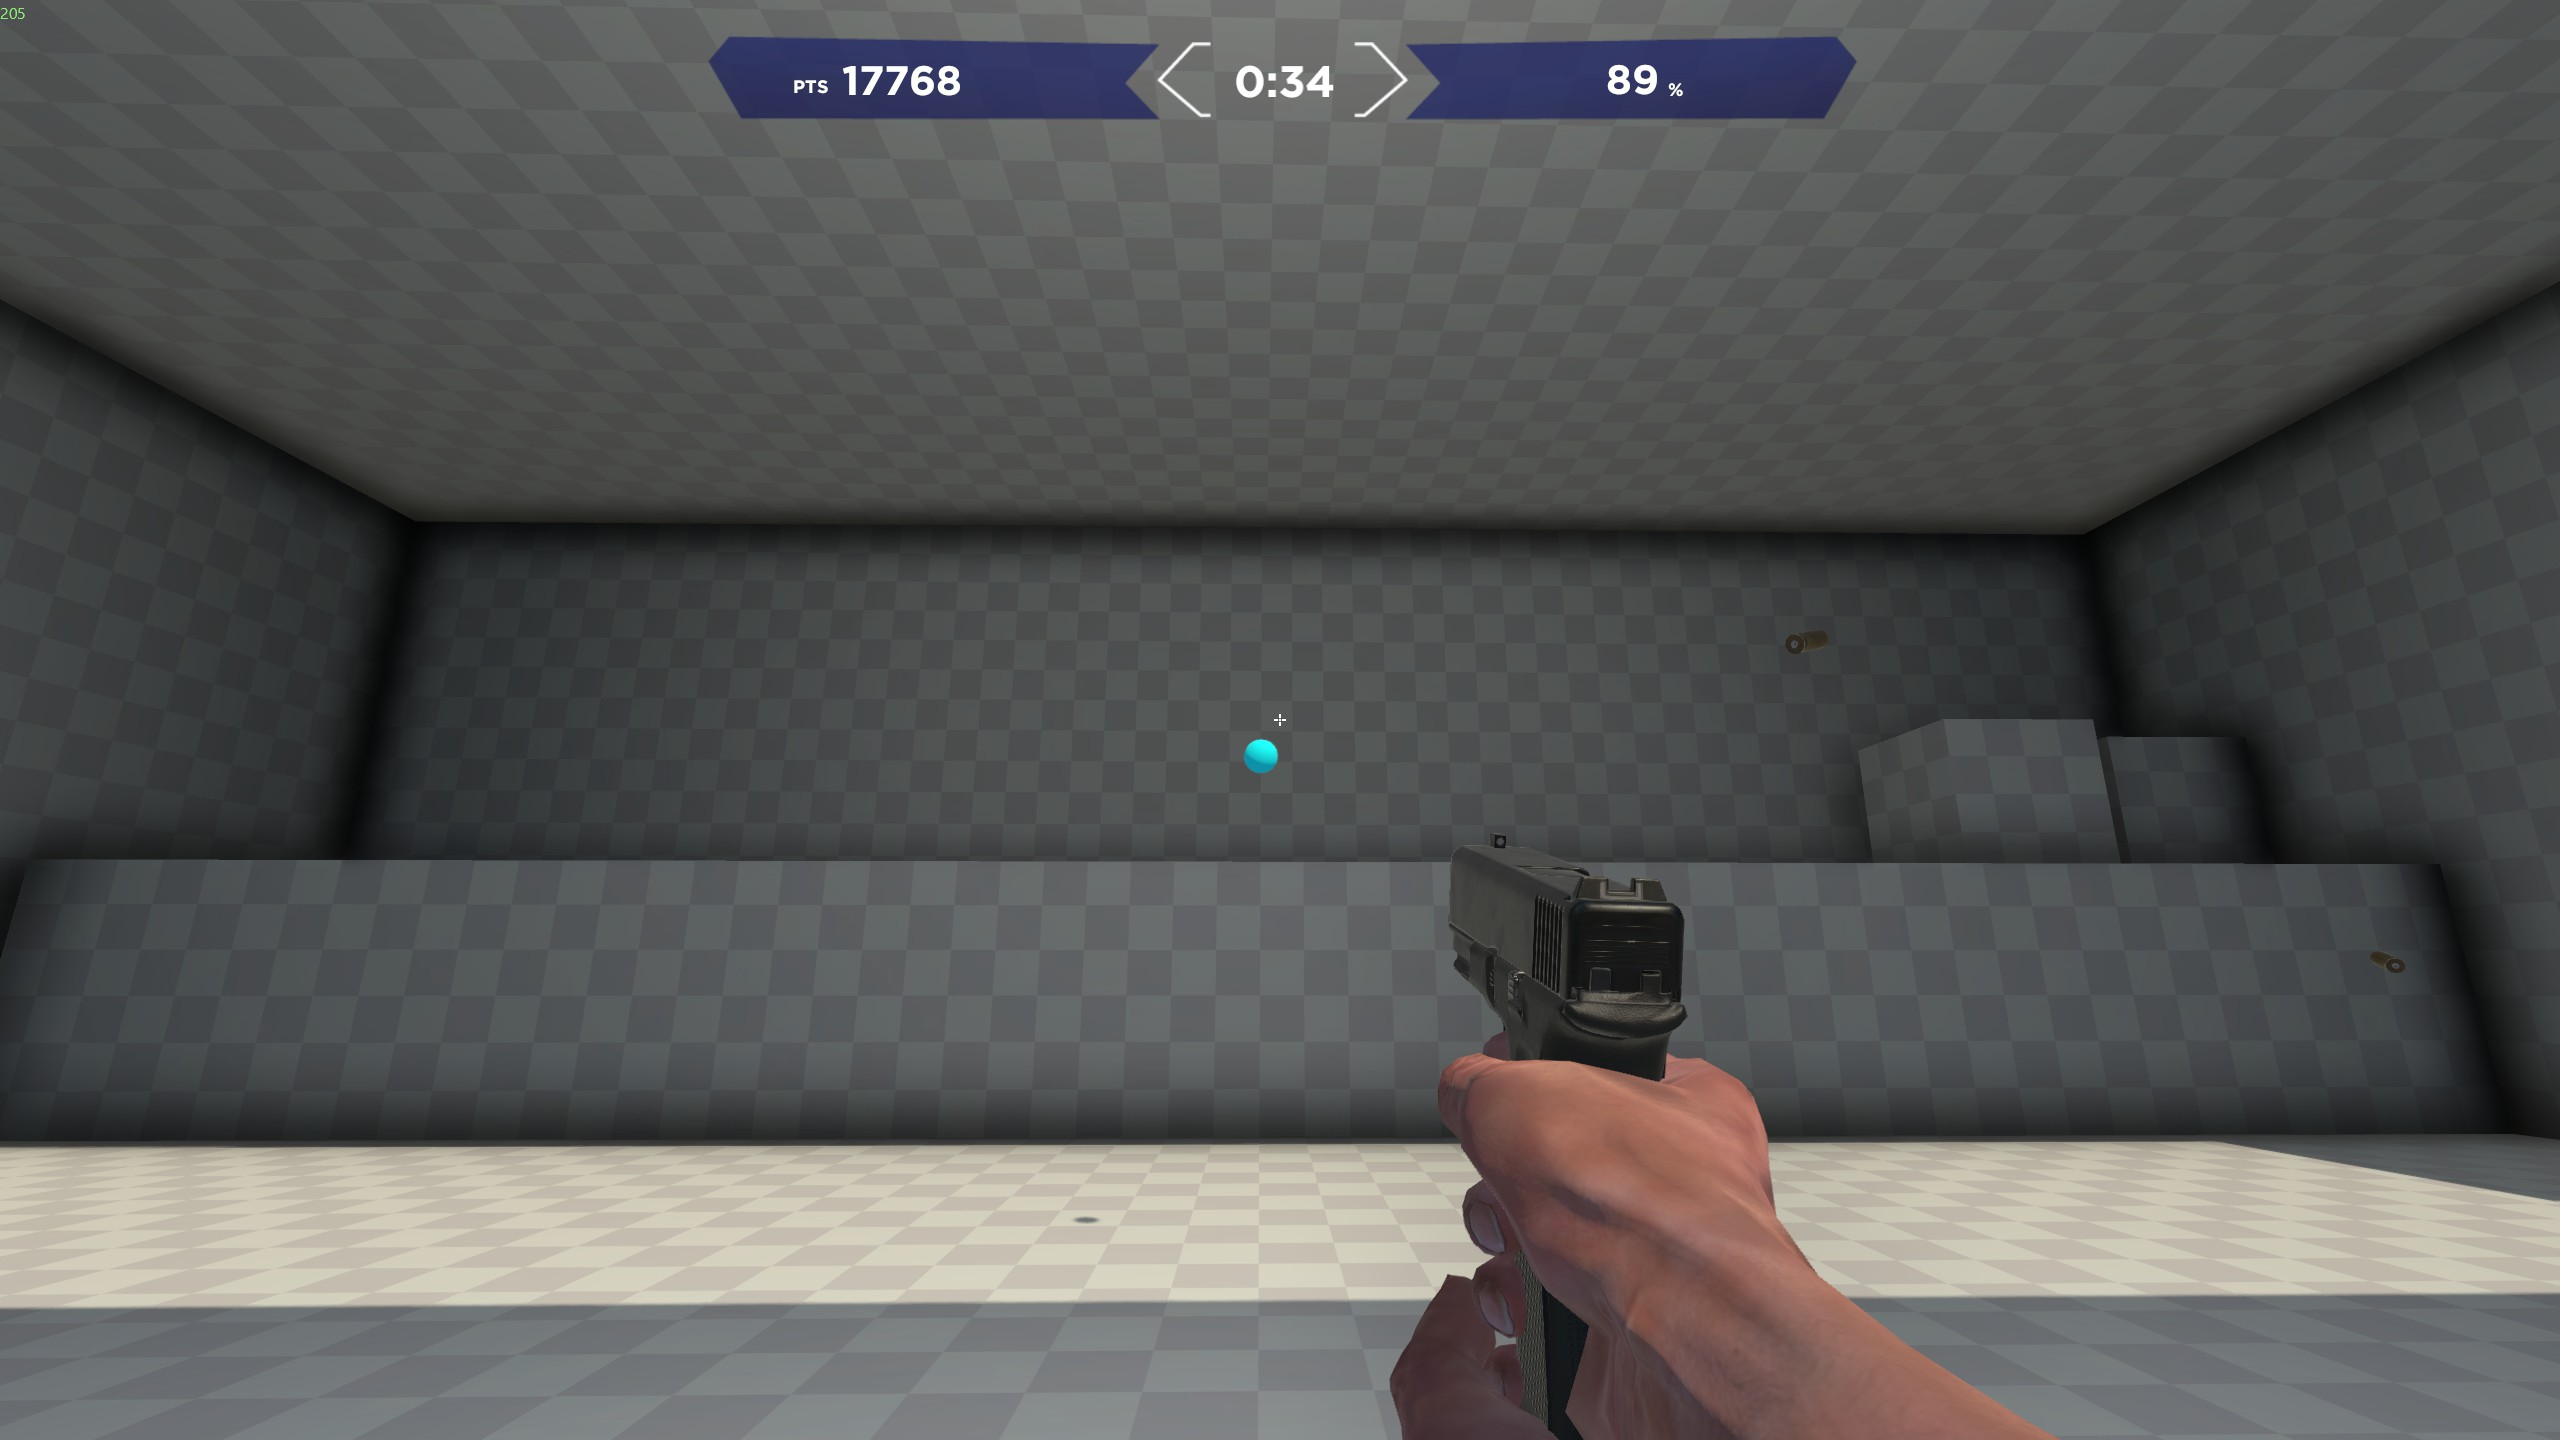Target: (1241, 744, 1289, 775)
